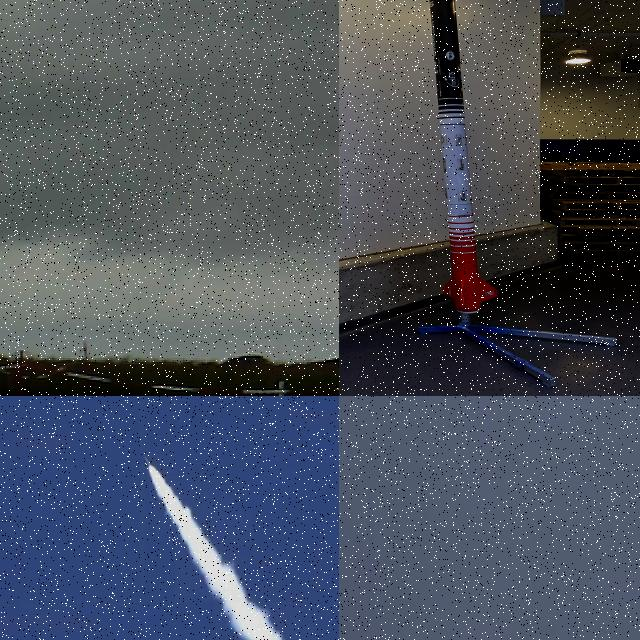Rocket: (429, 0, 498, 314), (273, 379, 288, 396), (144, 456, 151, 467)
